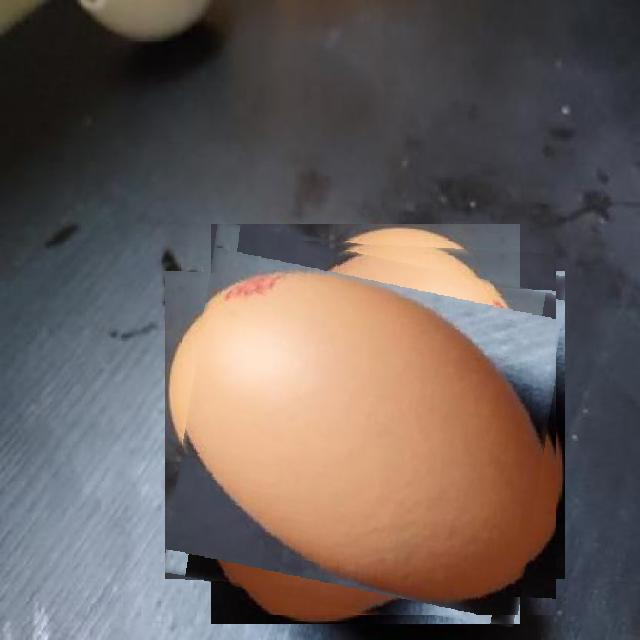biodegradable: (175, 234, 556, 615)
